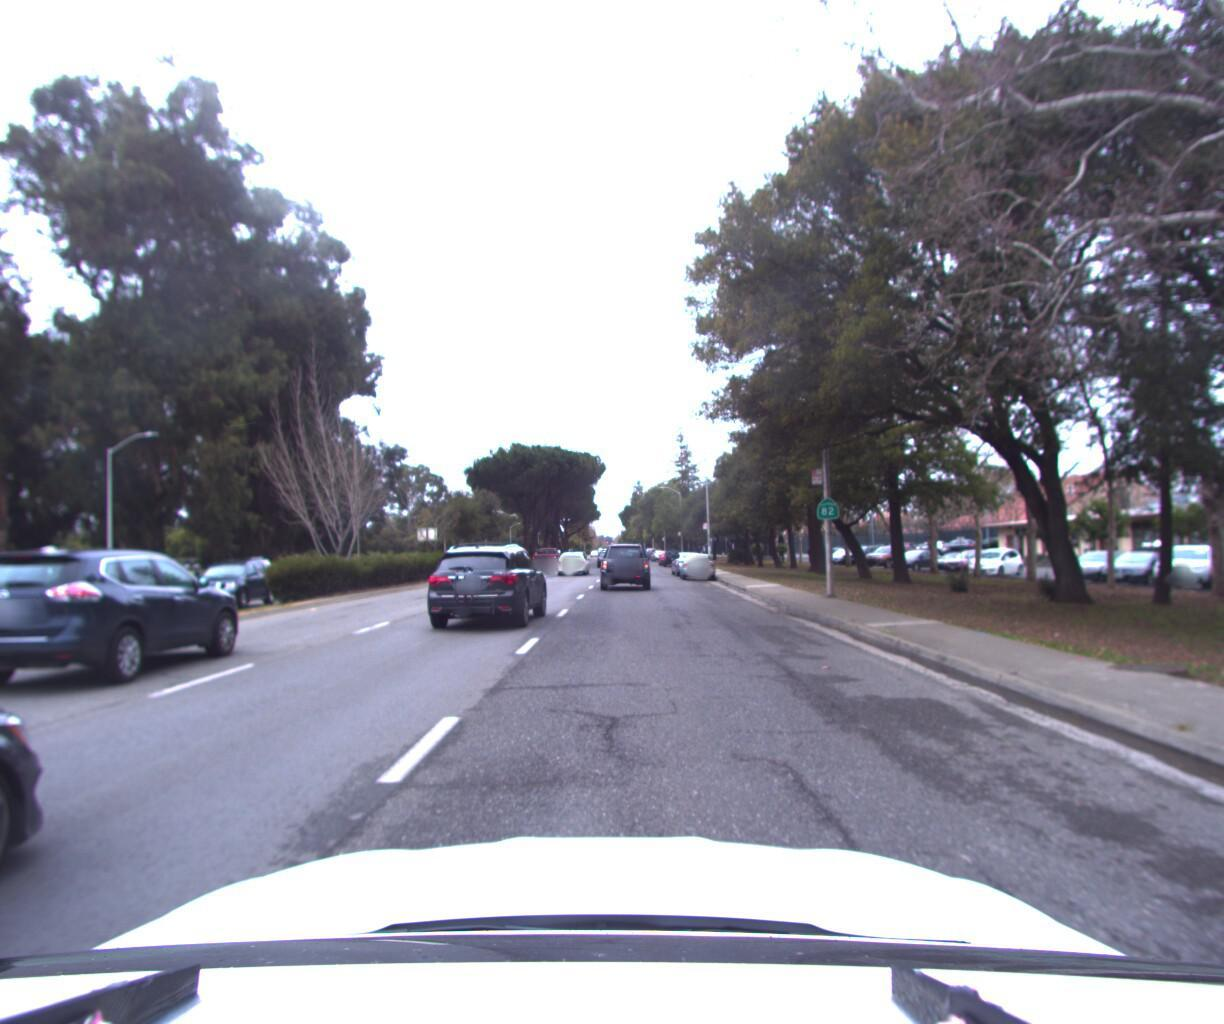car: (410, 536, 552, 638), (180, 550, 281, 615), (596, 538, 653, 590), (676, 545, 717, 576), (559, 542, 593, 573), (669, 544, 705, 571), (529, 544, 562, 569), (661, 543, 684, 561)
